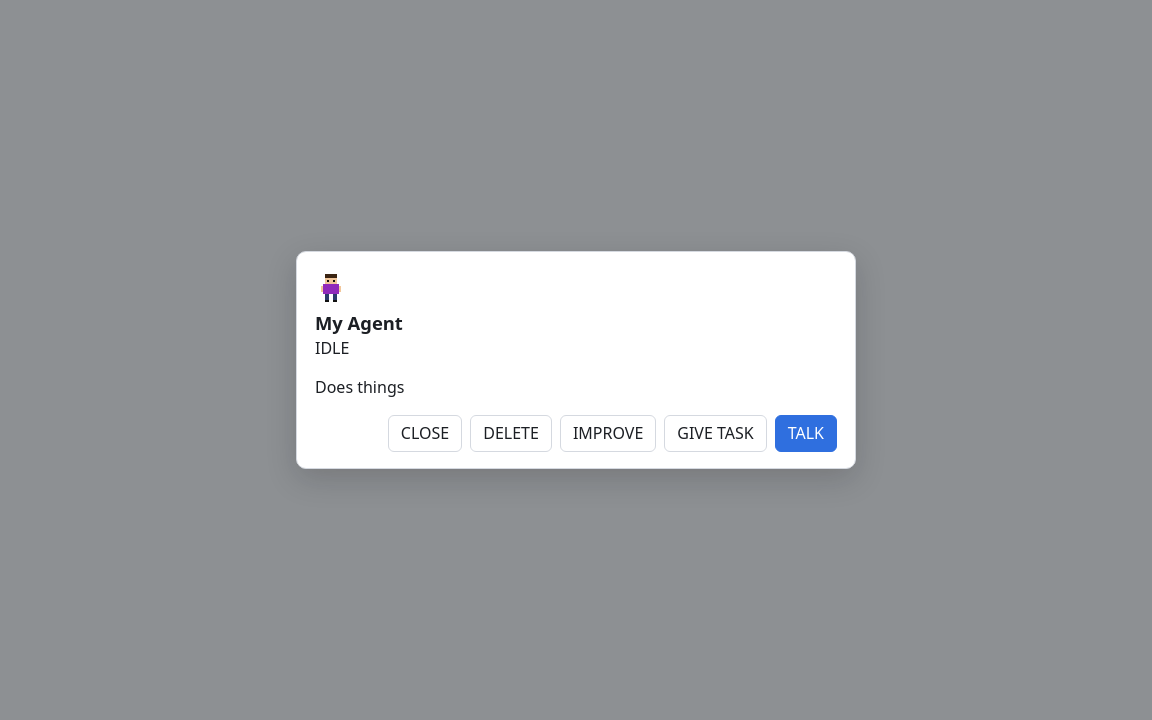
Scenario: GIVE TASK: RUN is disabled when blank, then starts the task and shows its result
Step 1. Click the button "GIVE TASK" → (716, 434), box [664,415,767,452]
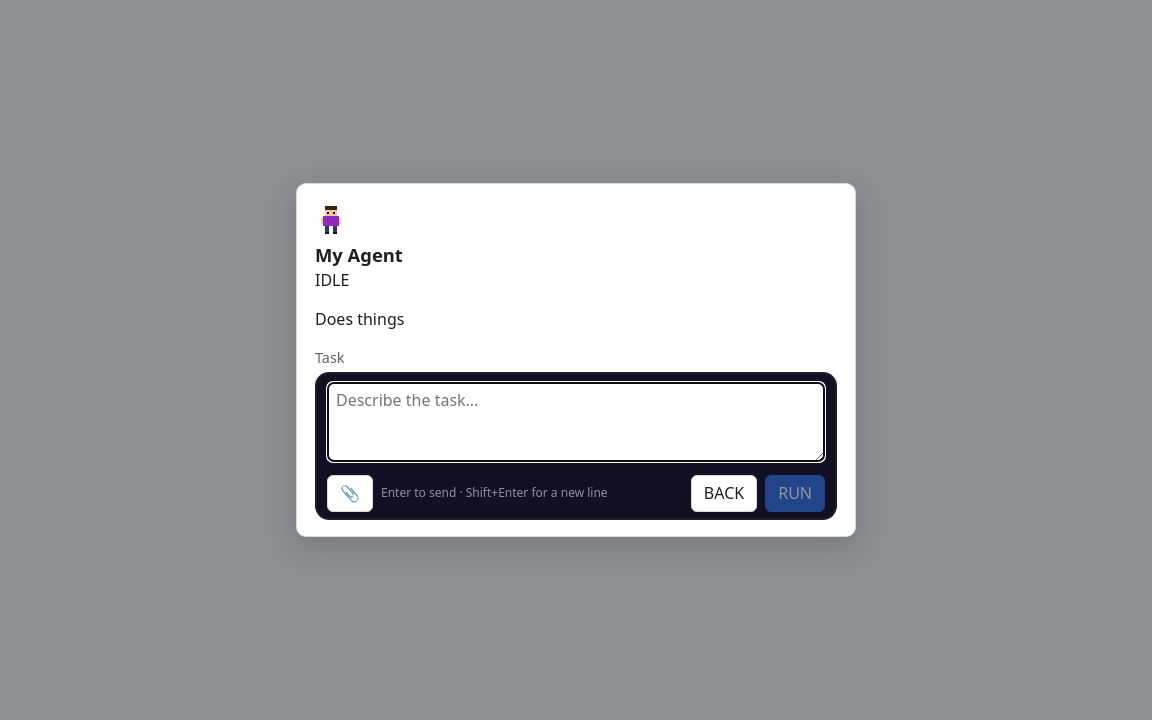
Now the button "RUN" is disabled, box [765,475,825,512]
Step 2. Type "tidy the docs" into the text box labelled "Task" → (576, 422), box [327,382,825,462]
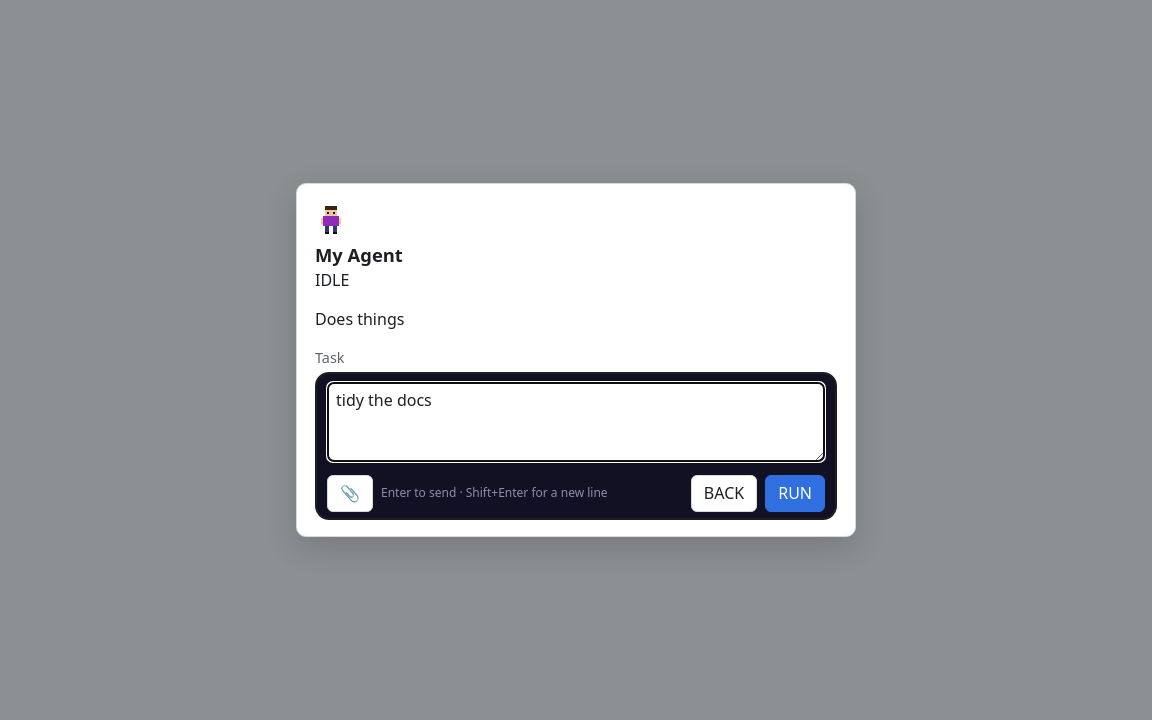
Step 3. Click the button "RUN" → (795, 493), box [765,475,825,512]
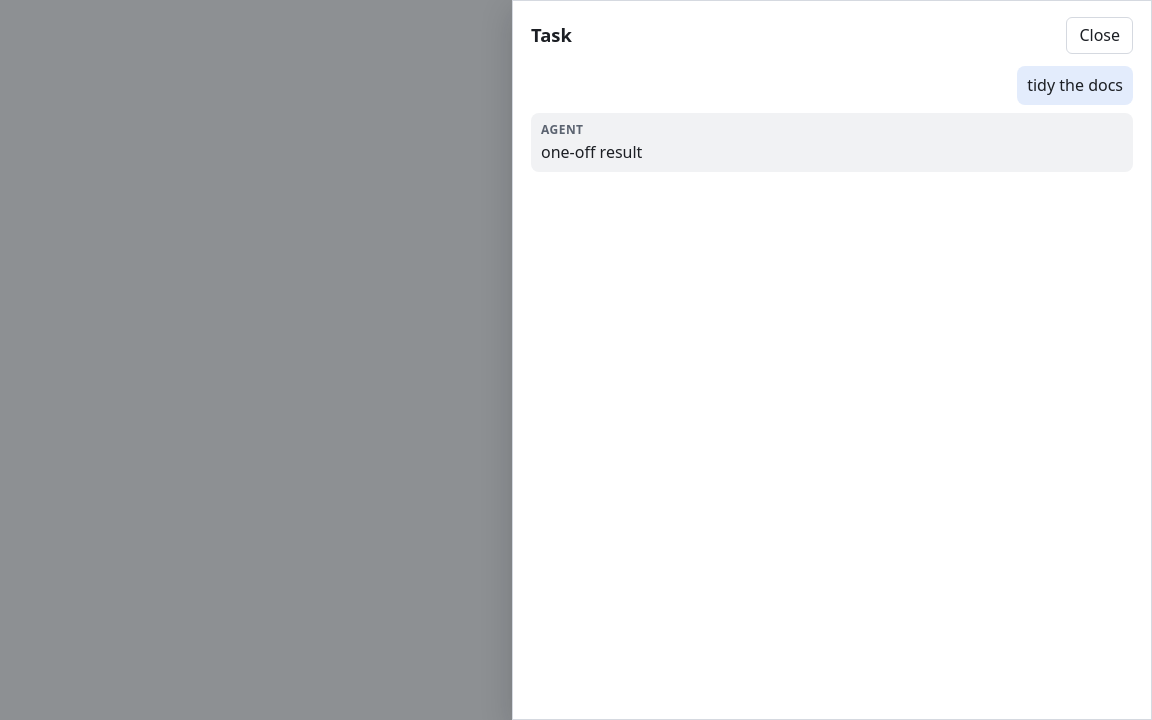
Now the text "one-off result" is shown, box [541,141,642,163]
